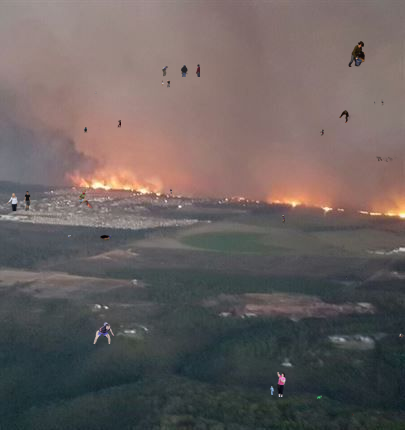Human: (6, 191, 31, 211), (162, 64, 200, 77), (347, 41, 366, 67), (83, 120, 121, 133), (93, 322, 115, 344), (78, 189, 94, 208), (277, 372, 286, 397), (339, 110, 352, 123), (376, 156, 400, 162), (100, 233, 116, 241), (161, 80, 171, 88), (374, 99, 384, 106), (270, 386, 274, 395), (282, 215, 285, 225), (399, 333, 405, 338), (320, 129, 324, 136), (317, 394, 322, 399), (170, 189, 172, 194), (94, 91, 97, 94), (68, 235, 71, 238), (352, 413, 354, 416), (137, 310, 141, 311), (346, 276, 347, 279)
